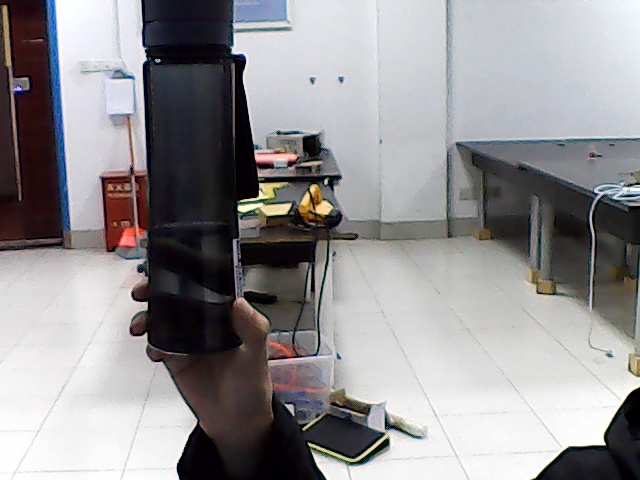cup: (142, 8, 234, 340)
